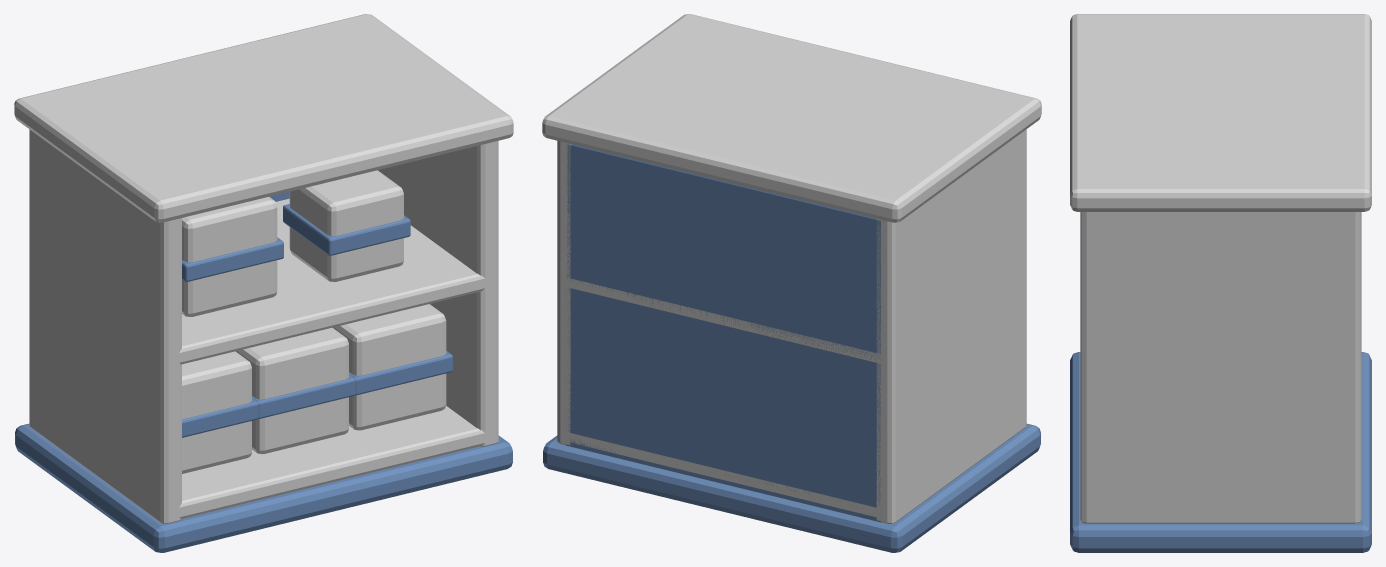
The model's file is registry.glb.
3 views of the same model, side by side, from view 1: azimuth 30°, elevation 25°; view 2: azimuth 150°, elevation 25°; view 3: azimuth 270°, elevation 25° (orthographic). The views are drawn at different scales.
Visible parts, largest first — view 1: top, side.-1, side.1, shelf.1, plinth, shelf.0, crate.2, crate.1, crate.4, crate.3, crate.0, crate-band.4 (+4 smaller); view 2: back, top, side.-1, plinth, side.1, shelf.0, shelf.1; view 3: side.1, top, plinth.
Part boxes in pixels (x1,y1,x2,y2): top: [14, 14, 513, 222]; side.-1: [29, 129, 181, 523]; side.1: [378, 140, 498, 446]; shelf.1: [171, 198, 492, 364]; plinth: [15, 423, 512, 552]; shelf.0: [171, 406, 492, 519]; crate.2: [333, 304, 446, 430]; crate.1: [236, 327, 348, 454]; crate.4: [289, 170, 403, 281]; crate.3: [182, 197, 277, 316]; crate.0: [182, 351, 251, 473]; crate-band.4: [283, 204, 410, 255]; back: [566, 144, 881, 522]; top: [542, 14, 1041, 222]; side.-1: [876, 129, 1026, 523]; plinth: [543, 423, 1040, 552]; side.1: [557, 140, 571, 445]; shelf.0: [563, 431, 884, 519]; shelf.1: [563, 277, 884, 364]; side.1: [1080, 212, 1361, 523]; top: [1070, 14, 1371, 211]; plinth: [1070, 352, 1371, 552].
Bounding box in the file's own units: 1.7 × 1.6 × 1.2.
